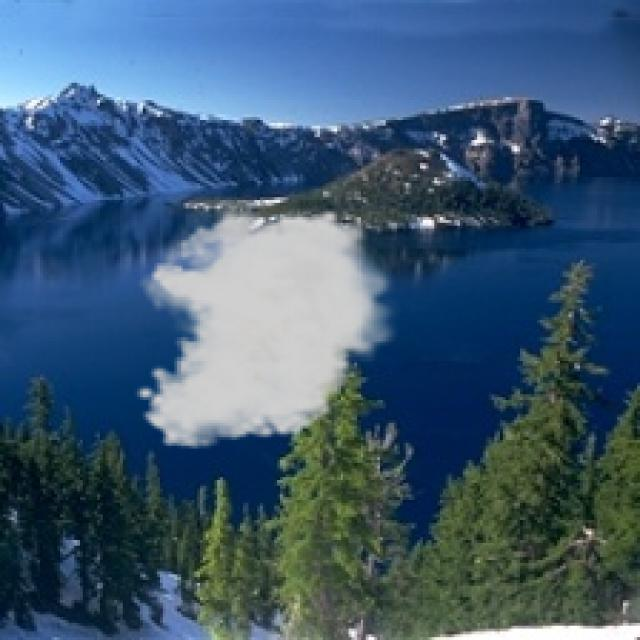smoke: (134, 194, 403, 452)
